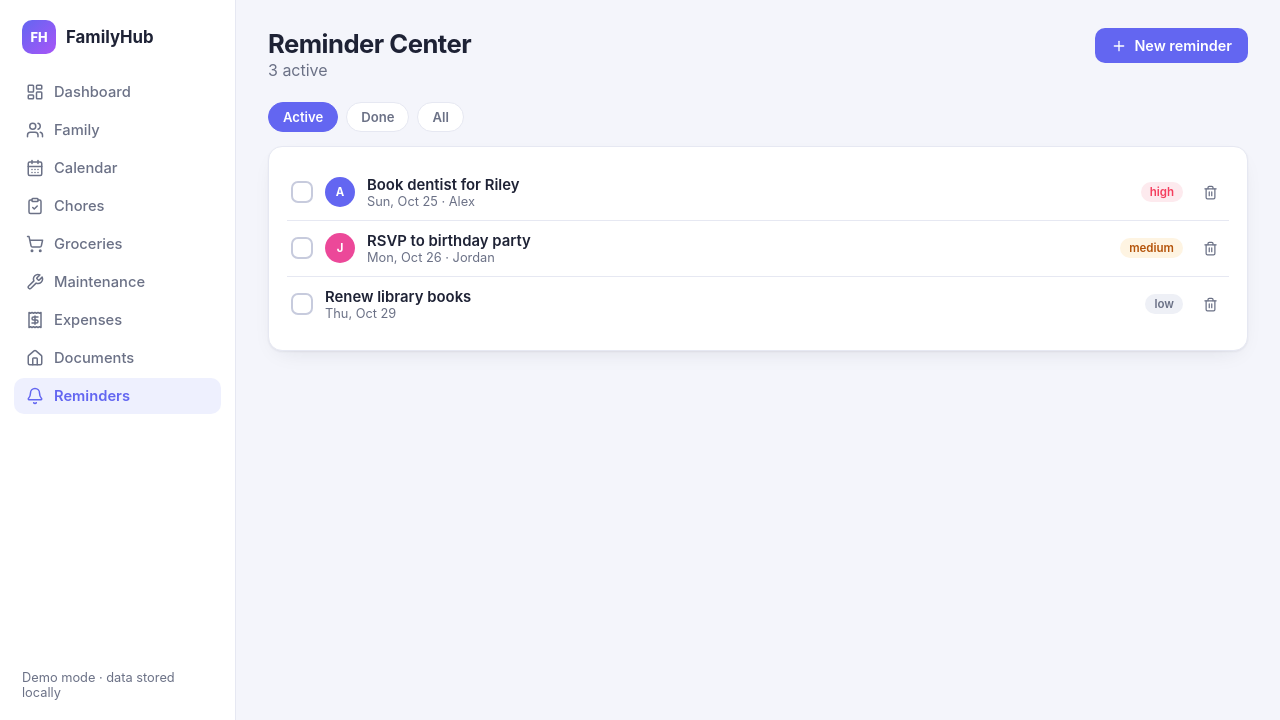
Test case: FamilyHub app › opens the new reminder dialog
The width and height of the screenshot is (1280, 720).
Click the button "New reminder" at (1172,46), box [1095, 28, 1248, 63]
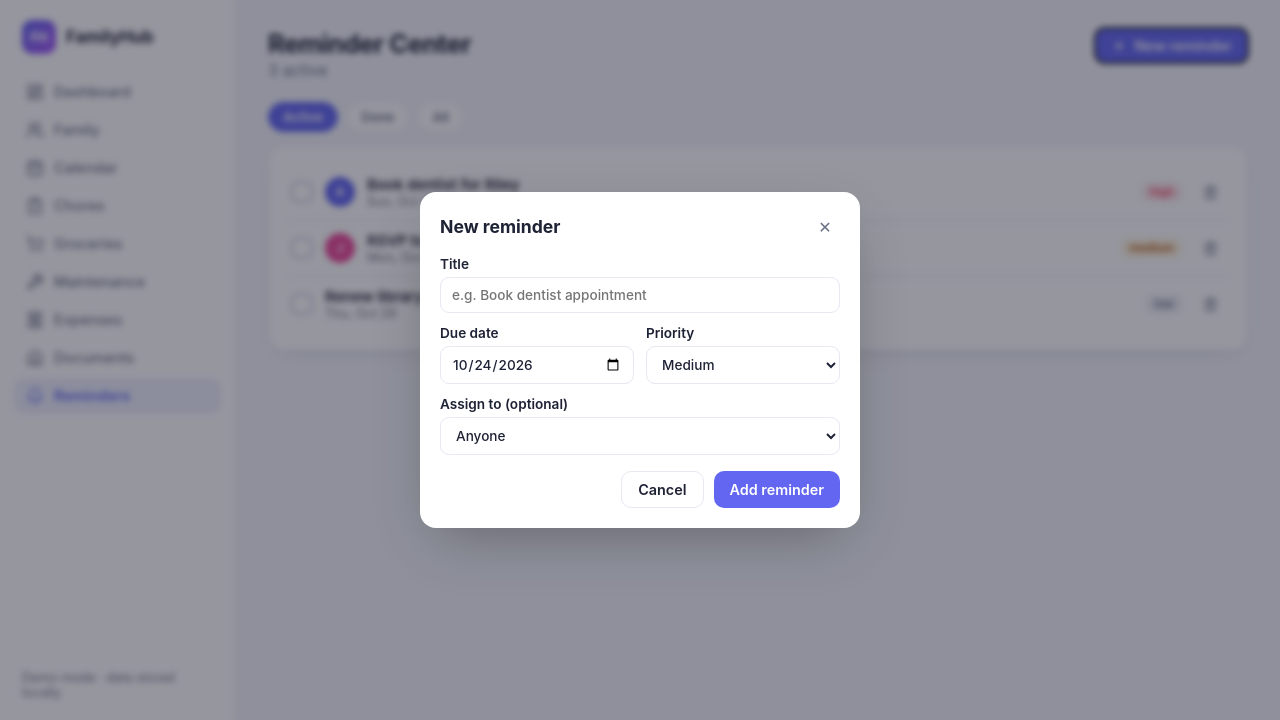
Check: the dialog is shown, box [420, 192, 860, 528]
Check: the button "Add reminder" is shown, box [714, 471, 840, 508]
